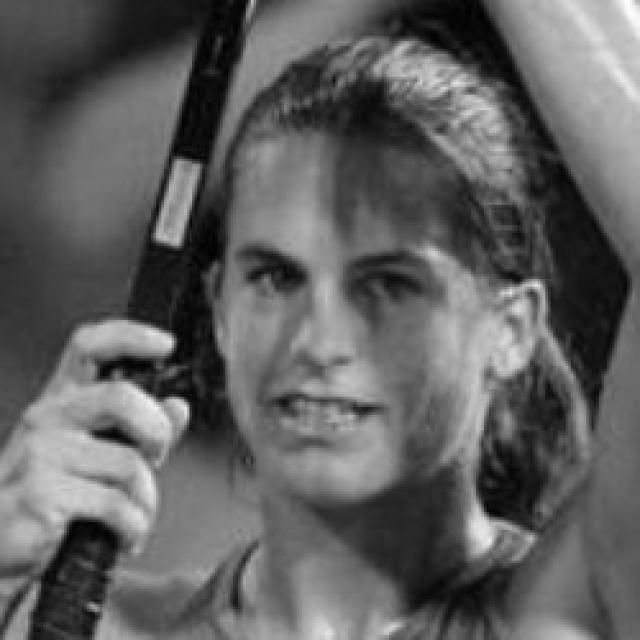real: (218, 126, 480, 506), (239, 235, 417, 312)
